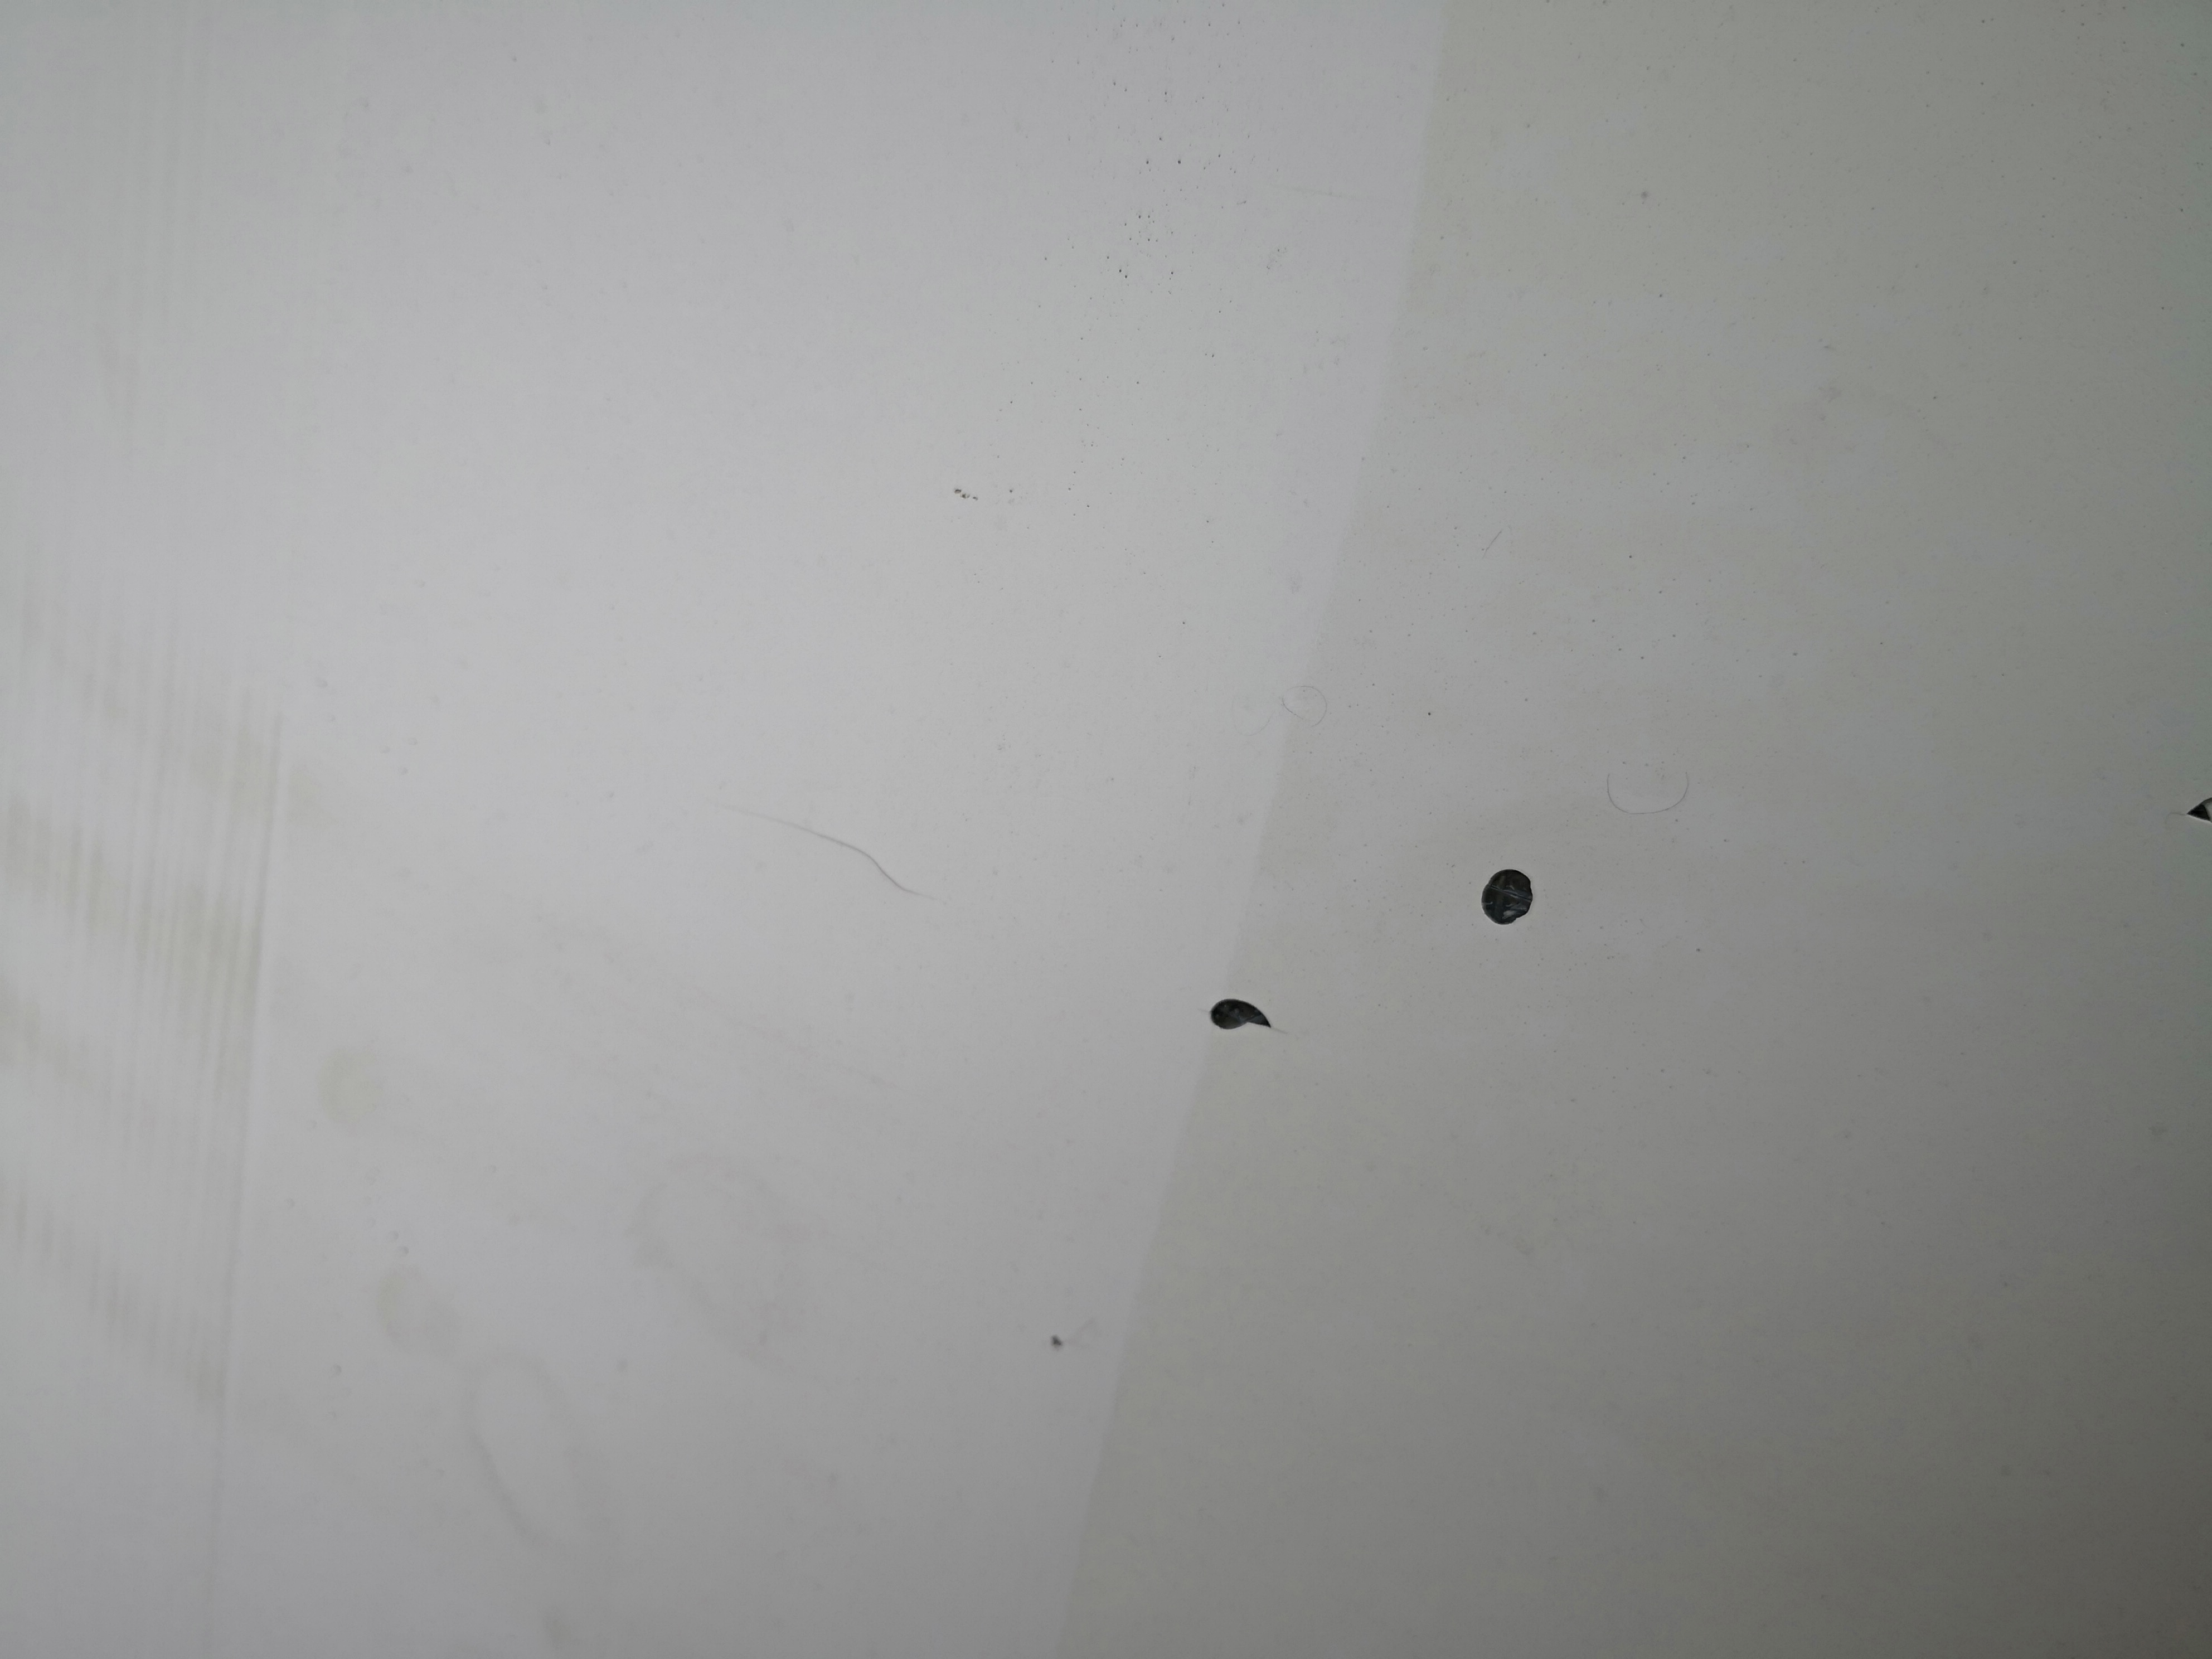SD: (1590, 744, 1702, 812), (1197, 988, 1289, 1054), (1477, 861, 1534, 925), (2142, 784, 2212, 829)
